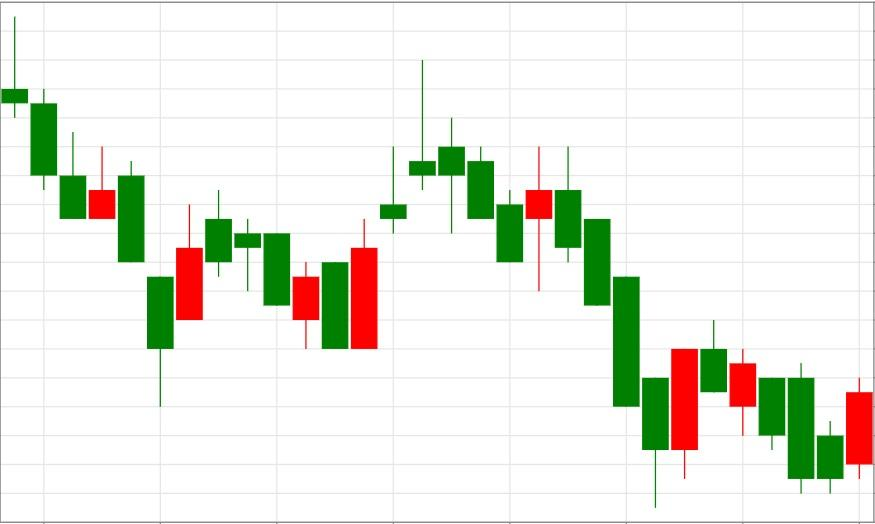bullish_engulfing_rise: (205, 188, 379, 350)
